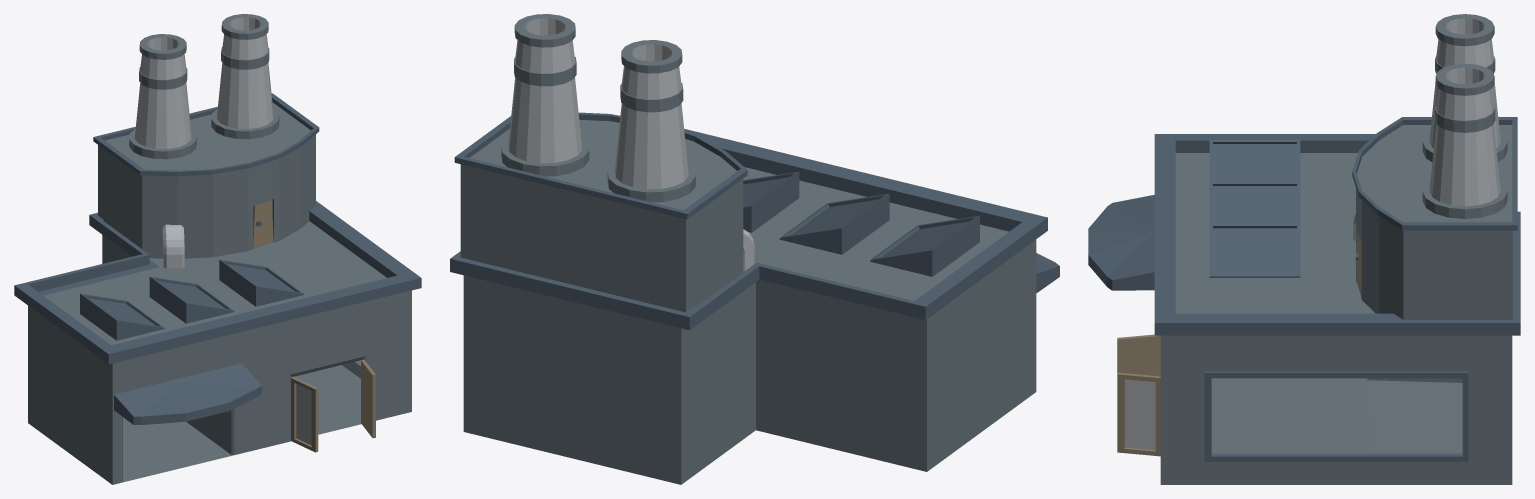
File: MyFactory.fbx
3 renders of one model, left to right at view 1: azimuth 30°, elevation 25°; view 2: azimuth 150°, elevation 25°; view 3: azimuth 270°, elevation 25°, orthographic. The views are drawn at different scales.
Parts seen in each view (by area): view 1: Cube.007, Cube.001, Cube, Circle, Cube.006, Cube.003, Cube.002, Plane.001; view 2: Cube.007, Cube.001, Circle, Cube, Cube.006, Cube.003; view 3: Cube.007, Cube.001, Cube, Circle, Cube.006, Cube.008, Cube.003, Cube.002.
Part boxes in pixels (left/top/right/bottom): Cube.007: left=28, top=221, right=411, bottom=484; Cube.001: left=93, top=93, right=319, bottom=258; Cube: left=14, top=201, right=421, bottom=364; Circle: left=129, top=14, right=279, bottom=159; Cube.006: left=80, top=259, right=303, bottom=340; Cube.003: left=114, top=363, right=261, bottom=424; Cube.002: left=291, top=360, right=375, bottom=452; Plane.001: left=162, top=224, right=184, bottom=268; Cube.007: left=463, top=167, right=1036, bottom=484; Cube.001: left=454, top=112, right=747, bottom=312; Circle: left=501, top=14, right=695, bottom=202; Cube: left=450, top=128, right=1047, bottom=330; Cube.006: left=743, top=171, right=979, bottom=276; Cube.003: left=1036, top=253, right=1059, bottom=293; Cube.007: left=1160, top=153, right=1512, bottom=484; Cube.001: left=1352, top=117, right=1517, bottom=319; Cube: left=1154, top=134, right=1520, bottom=335; Circle: left=1422, top=14, right=1507, bottom=218; Cube.006: left=1209, top=139, right=1300, bottom=277; Cube.008: left=1204, top=371, right=1468, bottom=461; Cube.003: left=1088, top=195, right=1154, bottom=290; Cube.002: left=1117, top=334, right=1160, bottom=456.
Size of the model in its own units: 781 by 736 by 754.
